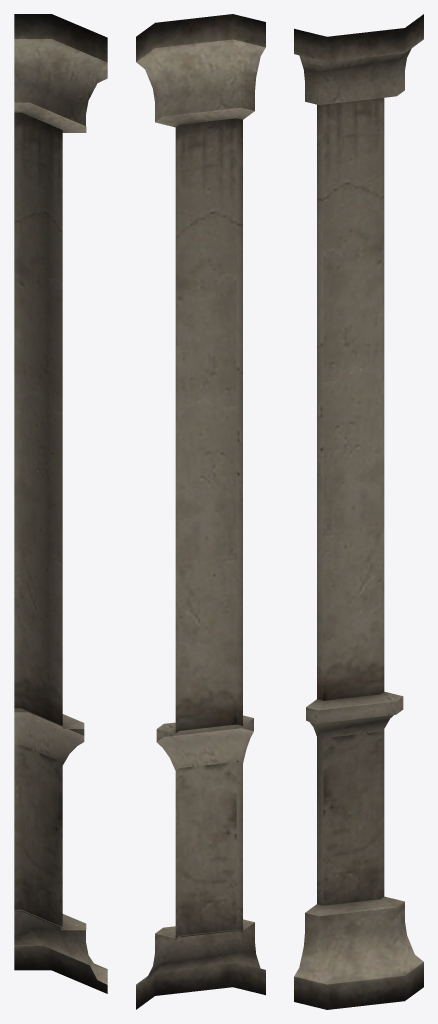
Rendered from welder_01c.DAE.
The picture shows the model from 3 angles, left to right: view 1: azimuth 90°, elevation 25°; view 2: azimuth 150°, elevation 25°; view 3: azimuth 330°, elevation 25°; orthographic projection.
Visible parts, largest first — view 1: mansionbase_welder010; view 2: mansionbase_welder010; view 3: mansionbase_welder010.
Boxes of the visible parts, box(x1,y1,x2,y2) form: mansionbase_welder010: box(14, 14, 107, 993); mansionbase_welder010: box(136, 14, 265, 1009); mansionbase_welder010: box(294, 14, 423, 1009).
Bounding box in the file's own units: 0.3543 × 4 × 0.3543.
